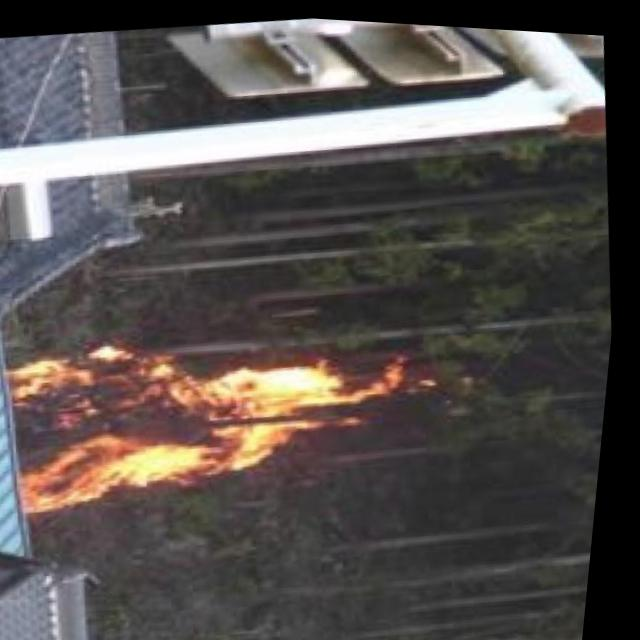Fire: (10, 299, 433, 524)
